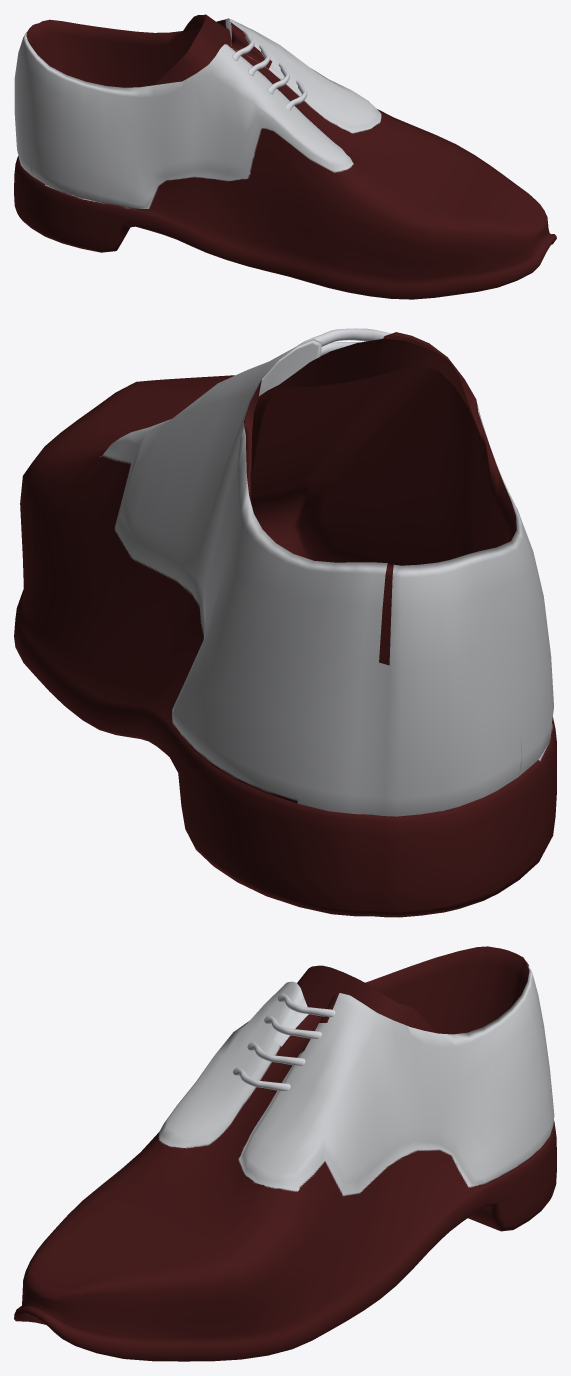
File: Lacedshoe1.fbx
3 views of the same model, one above another, from view 1: azimuth 30°, elevation 25°; view 2: azimuth 150°, elevation 25°; view 3: azimuth 270°, elevation 25° (orthographic). The views are drawn at different scales.
Visible parts, largest first — view 1: Shoe1, pCylinder9; view 2: Shoe1, pCylinder9; view 3: Shoe1, pCylinder9.
Part boxes in pixels (x1,y1,x2,y2): Shoe1: [14, 14, 556, 299]; pCylinder9: [232, 30, 307, 110]; Shoe1: [14, 332, 556, 917]; pCylinder9: [297, 328, 391, 355]; Shoe1: [14, 946, 556, 1361]; pCylinder9: [233, 993, 335, 1090].
Size of the model in its own units: 3.71 by 2.14 by 3.99.
Materials: 1 (1 with a texture image).
